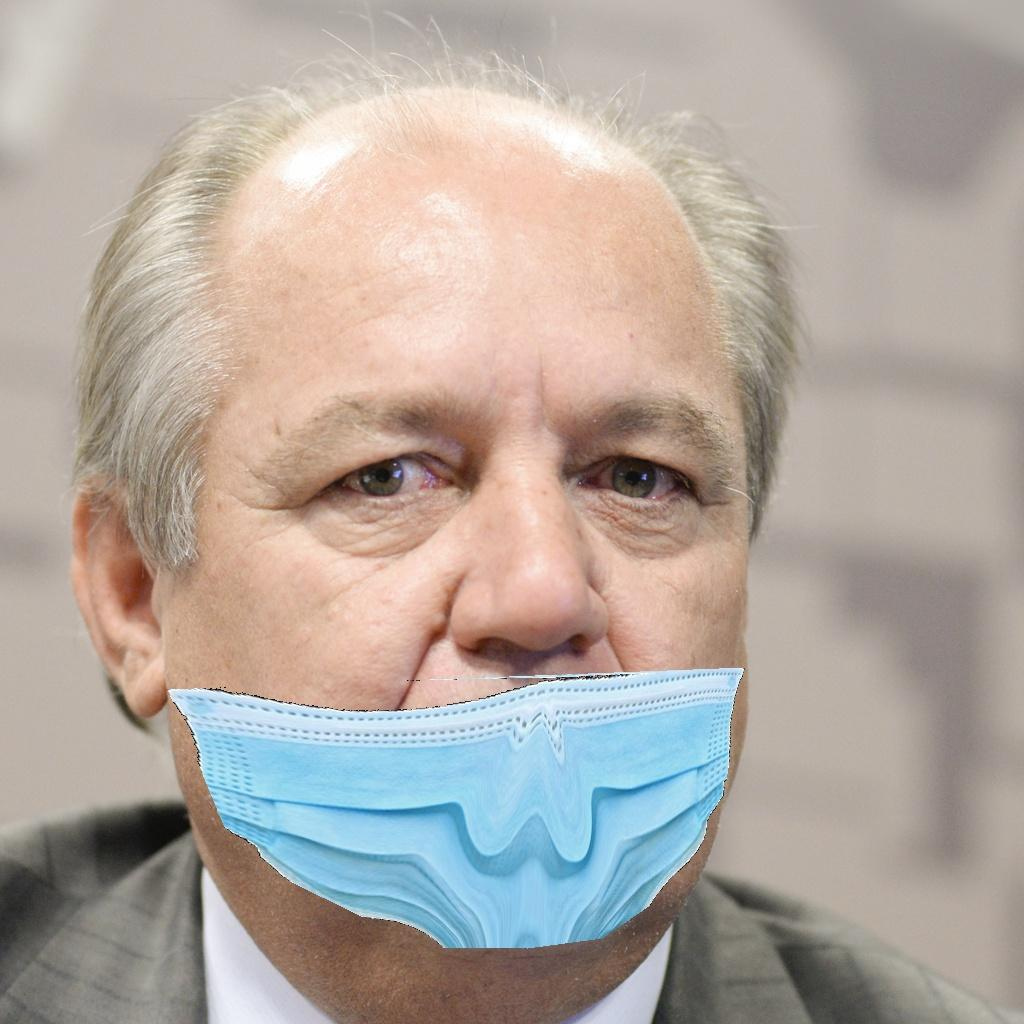Máscara Incorreta: (187, 290, 752, 957)
